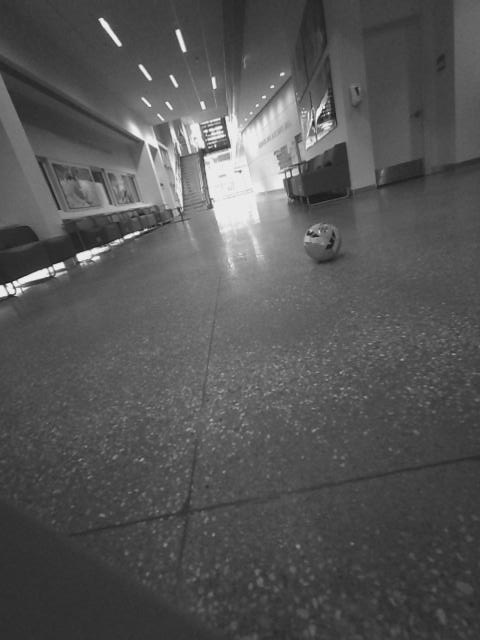ball: (297, 215, 348, 265)
